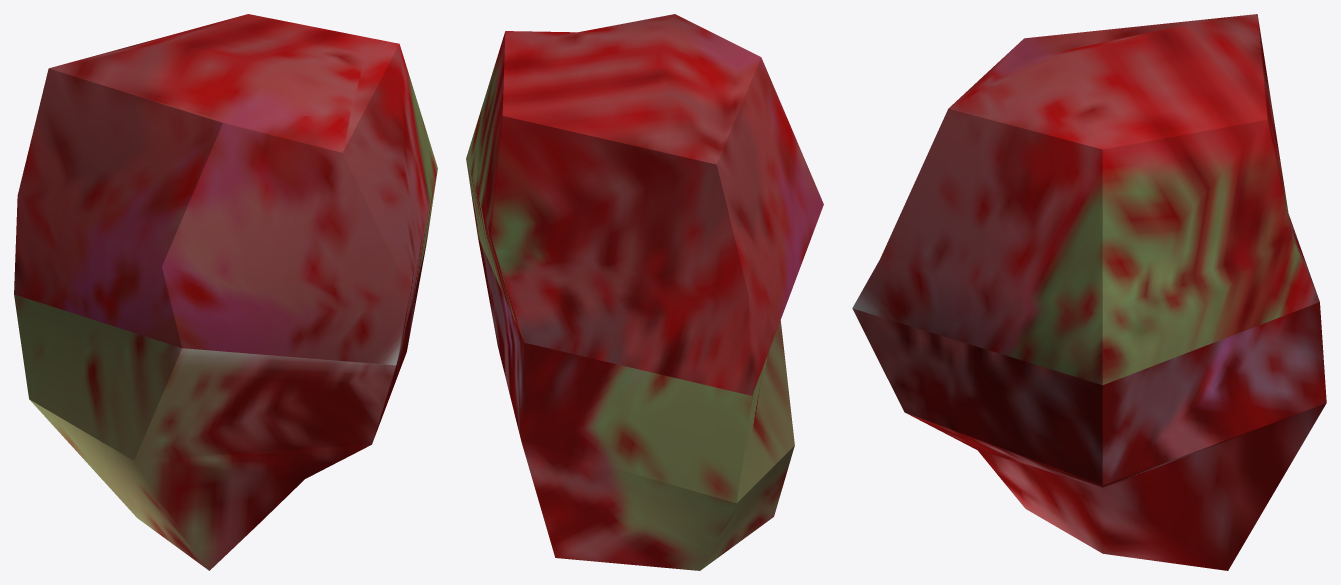
File: gojjs8.fbx
3 views of the same model, side by side, from view 1: azimuth 30°, elevation 25°; view 2: azimuth 150°, elevation 25°; view 3: azimuth 270°, elevation 25° (orthographic). The views are drawn at different scales.
Visible parts, largest first — view 1: pCylinder1; view 2: pCylinder1; view 3: pCylinder1.
Boxes of the visible parts, x1=… form: pCylinder1: x1=14, y1=14, x2=437, y2=570; pCylinder1: x1=466, y1=14, x2=823, y2=570; pCylinder1: x1=852, y1=14, x2=1326, y2=570.
Bounding box in the file's own units: 1.65 × 2.1 × 1.8.
Materials: 1 (1 with a texture image).
